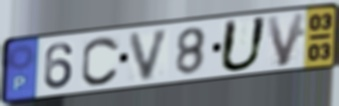6: (43, 41, 76, 90)
8: (173, 25, 208, 77)
C: (79, 35, 122, 88)
U: (217, 15, 271, 74)
V: (127, 26, 173, 83), (264, 10, 308, 69)
